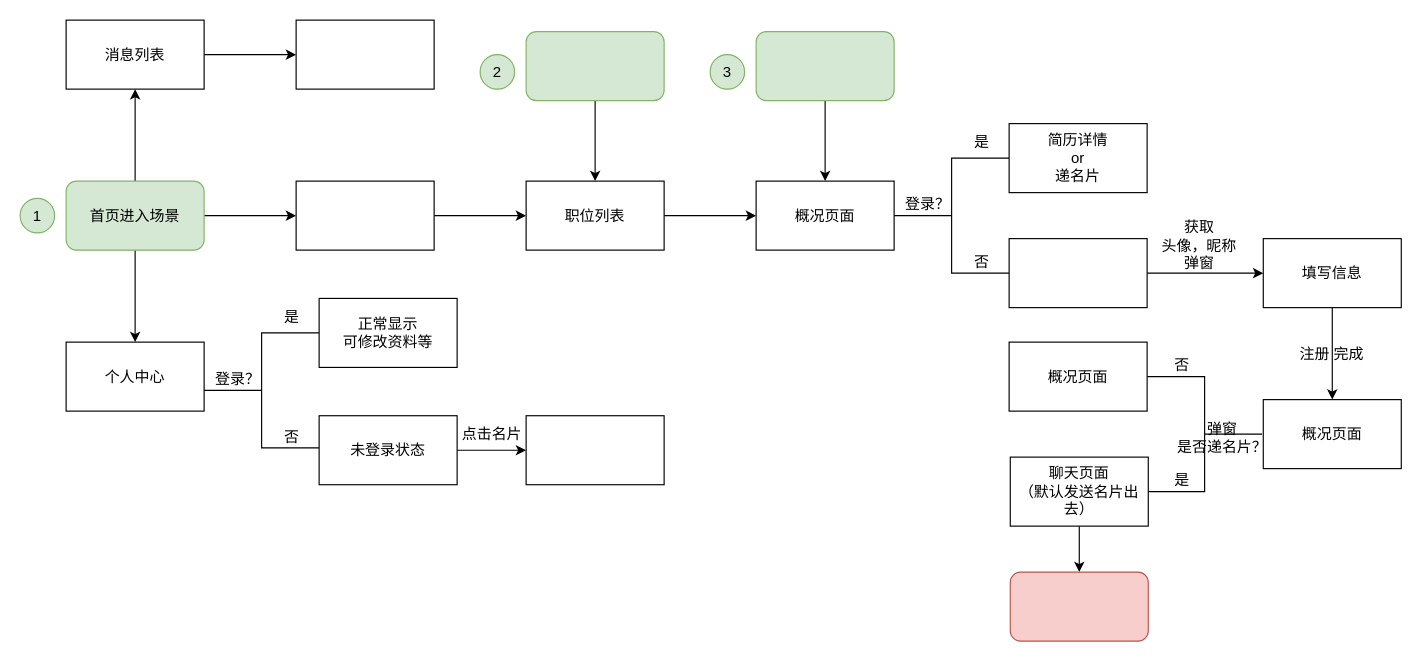
Some shapes in this 1421 by 661 pixel diagram are drawn without their labels. Here are the shapes that lost their labels. From the top down, the centre of each, then its label:
At (x=364, y=54): "聊天页面".
At (x=594, y=65): "分享 列表进入场景".
At (x=824, y=65): "分享 单份简历进入场景".
At (x=364, y=215): "首页".
At (x=1077, y=272): "注册引导页".
At (x=594, y=450): "注册引导页 （正常注册）".
At (x=1078, y=606): "结束".
